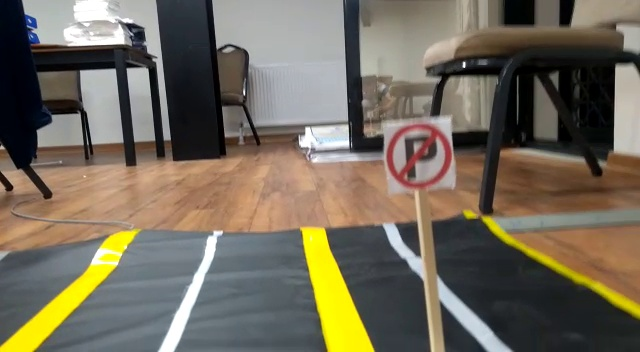park_yapilmaz: (384, 120, 452, 190)
